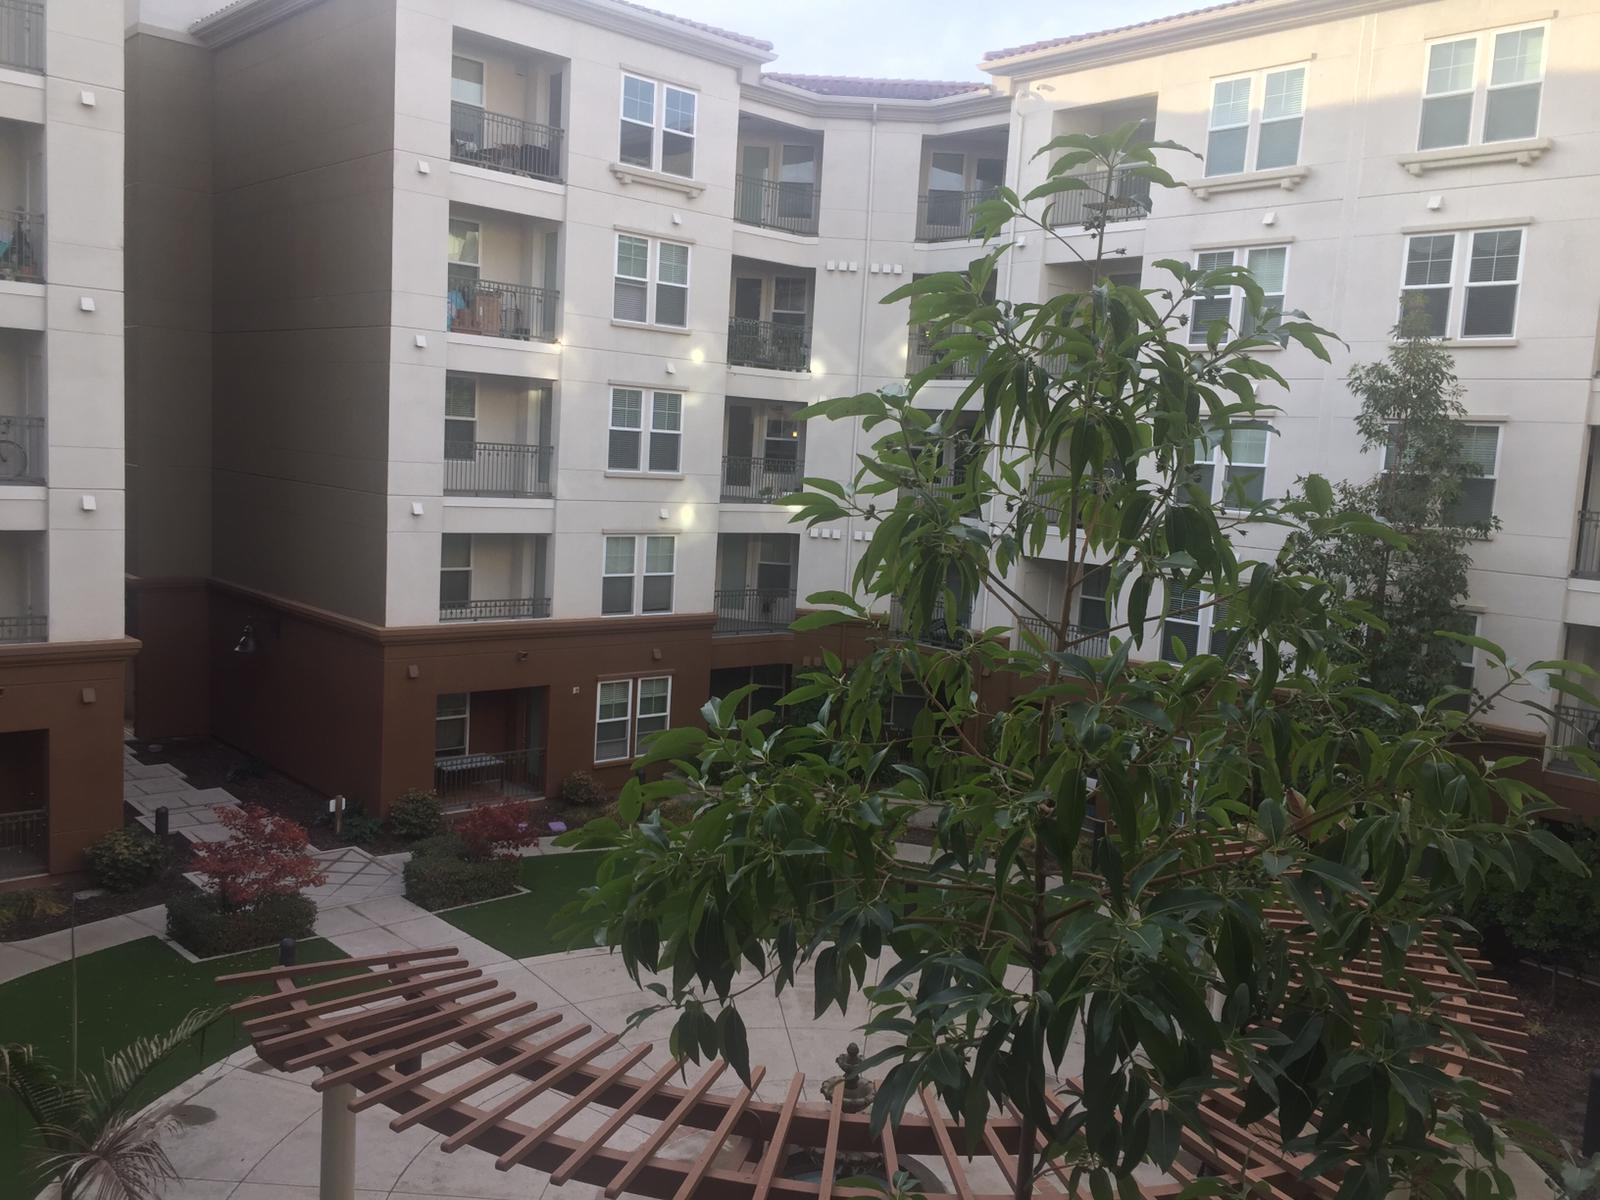plants: (929, 142, 1272, 1165), (1288, 366, 1488, 947), (634, 731, 934, 1006), (1, 1044, 142, 1200), (204, 824, 319, 937), (416, 811, 534, 899)
